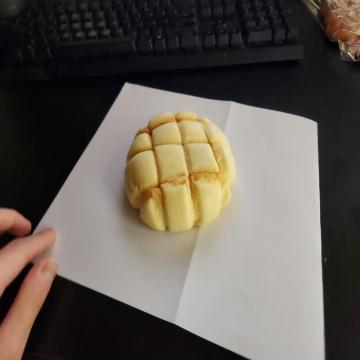melon_bread: (124, 110, 233, 234)
